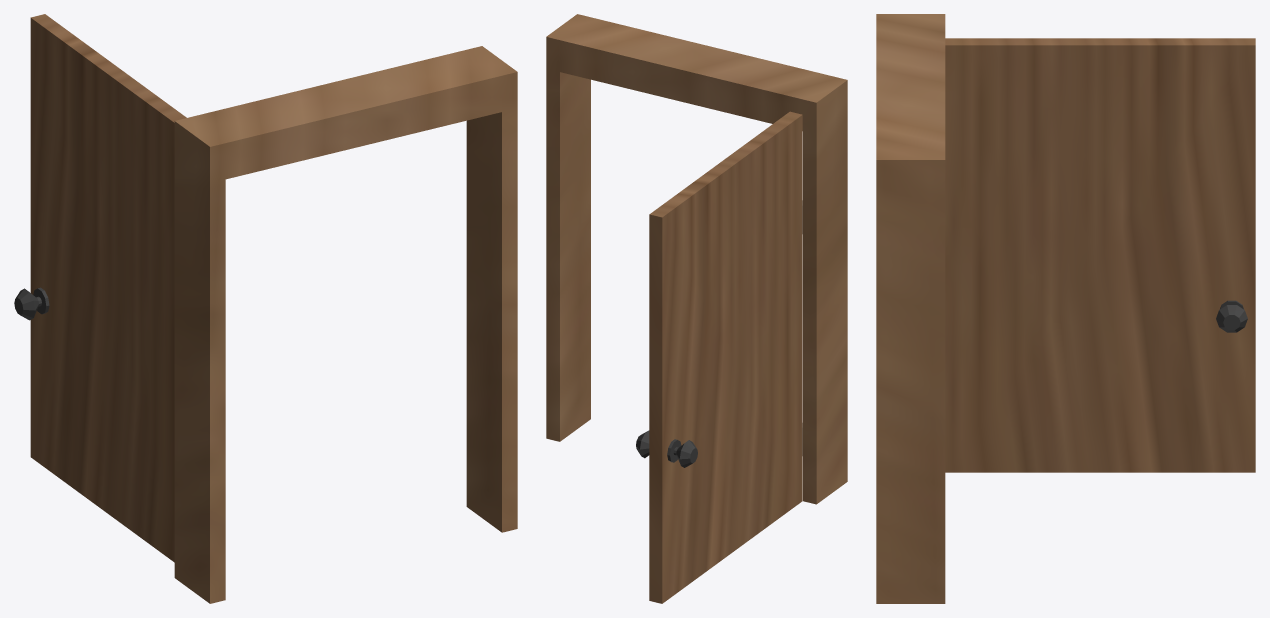
The model's file is iç kapılar.fbx.
3 views of the same model, side by side, from view 1: azimuth 30°, elevation 25°; view 2: azimuth 150°, elevation 25°; view 3: azimuth 270°, elevation 25° (orthographic). The views are drawn at different scales.
Visible parts, largest first — view 1: Plane.006; view 2: Plane.006; view 3: Plane.006.
Boxes of the visible parts, bbox=[...] form: Plane.006: bbox=[14, 14, 517, 603]; Plane.006: bbox=[546, 14, 847, 603]; Plane.006: bbox=[876, 14, 1255, 603].
Size of the model in its own units: 205 by 284 by 220.
Materials: 1 (1 with a texture image).
